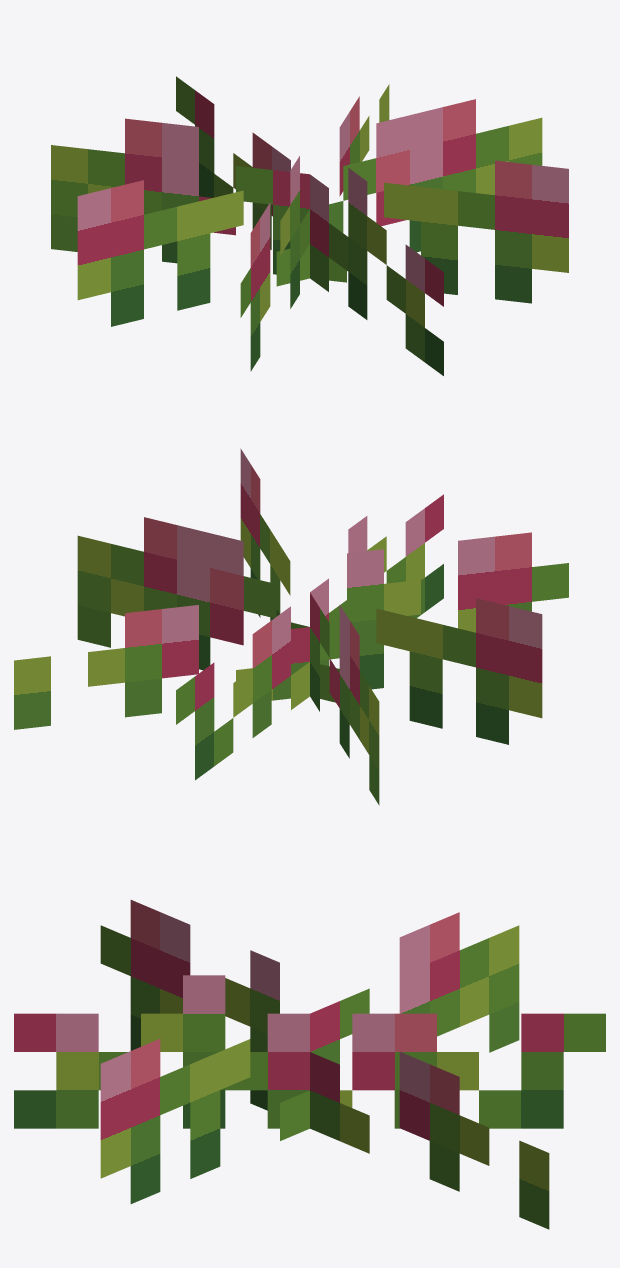
The model's file is TulipSprout.fbx.
The picture shows the model from 3 angles, top to bottom: view 1: azimuth 30°, elevation 25°; view 2: azimuth 150°, elevation 25°; view 3: azimuth 270°, elevation 25°; orthographic projection. The views are drawn at different scales.
Parts seen in each view (by area): view 1: plane; view 2: plane; view 3: plane.
Part boxes in pixels (box(x1,y1,x2,y2)): plane: box(51, 76, 568, 375); plane: box(14, 448, 568, 805); plane: box(14, 900, 605, 1229).
Size of the model in its own units: 87.5 by 25 by 87.5.
1 material, 1 textured.
